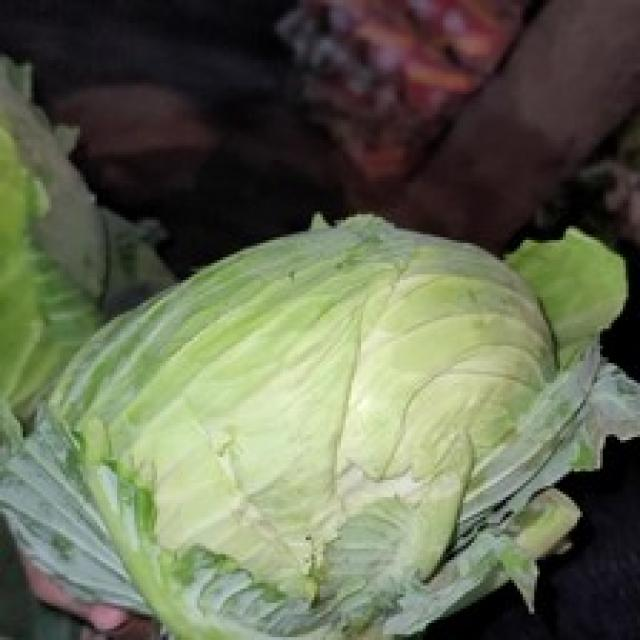Cabbage: (0, 209, 637, 637)
